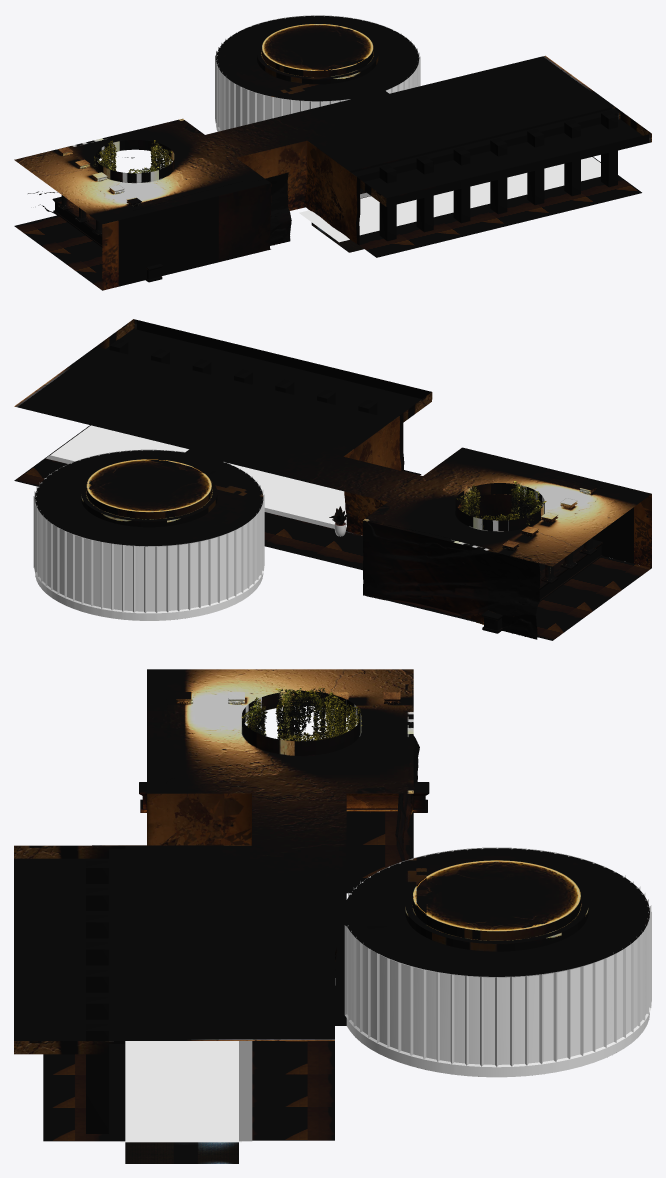
File: duforn_website.compressed.glb
3 views of the same model, one above another, from view 1: azimuth 30°, elevation 25°; view 2: azimuth 150°, elevation 25°; view 3: azimuth 270°, elevation 25° (orthographic). The views are drawn at different scales.
Parts seen in each view (by area): view 1: roof, cracked plaster wall, tiles, Cube, Water, window, window beams, Large Cliff Overhang.003, bottom arch, pillars, Leaf_plant.003; view 2: roof, window, Large Cliff Overhang.002, tiles, window beams, cracked plaster wall, Water, bottom arch, Cube, pillars, Leaf_plant.002, Leaf_plant.003 (+1 smaller); view 3: roof, window, tiles, Water, window beams, cracked plaster wall, Cube, PoolWalls, Leaf_plant, bottom arch, strip, Leaf_plant.001 (+2 smaller).
Part boxes in pixels (x1,y1,x2,y2): roof: (14, 16, 651, 224); cracked plaster wall: (102, 140, 360, 290); tiles: (14, 157, 641, 290); Cube: (379, 111, 617, 241); Water: (299, 157, 600, 242); window: (216, 44, 419, 131); window beams: (215, 15, 420, 131); Large Cliff Overhang.003: (133, 172, 291, 245); bottom arch: (52, 196, 162, 282); pillars: (57, 147, 141, 235); Leaf_plant.003: (150, 140, 173, 171); roof: (14, 319, 651, 566); window: (35, 475, 263, 620); Large Cliff Overhang.002: (363, 519, 540, 639); tiles: (14, 425, 651, 640); window beams: (33, 449, 264, 613); cracked plaster wall: (343, 413, 651, 567); Water: (50, 425, 346, 527); bottom arch: (481, 539, 602, 633); Cube: (109, 339, 377, 414); pillars: (502, 484, 596, 583); Leaf_plant.002: (510, 481, 540, 518); Leaf_plant.003: (457, 485, 480, 518); roof: (14, 669, 649, 1054); window: (346, 877, 649, 1077); tiles: (43, 811, 413, 1141); Water: (120, 1041, 241, 1142); window beams: (344, 847, 651, 1067); cracked plaster wall: (92, 793, 251, 845); Cube: (86, 861, 108, 1133); PoolWalls: (125, 1142, 238, 1163); Leaf_plant: (275, 687, 326, 740); bottom arch: (139, 782, 429, 812); strip: (239, 1041, 252, 1141); Leaf_plant.001: (324, 692, 362, 738).
Size of what is drawn, in the model's own units: 15.48 by 2.77 by 11.21.
22 materials, 17 textured.
